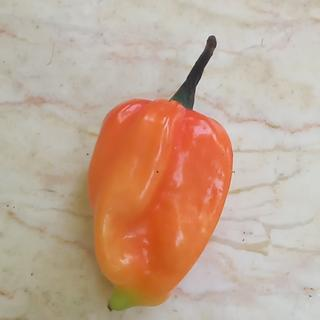Grade-A: (83, 93, 235, 307)
